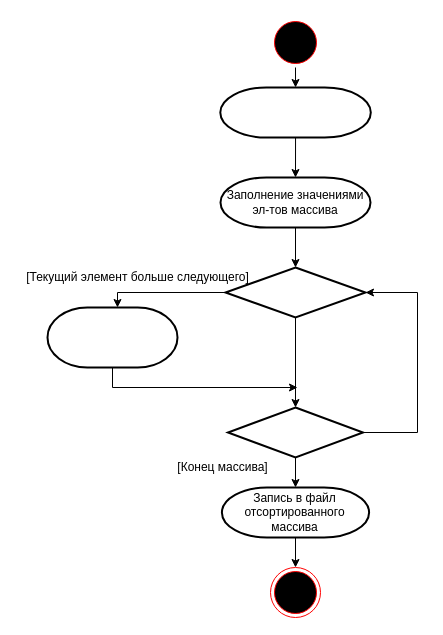
This 443x635 diagram has some shape labels left out. The centre of each missing label's shape, as x and y in pixels:
Считывание количества элементов в массиве: the point at 295,112
Элементы массива меняются местами: the point at 112,337
